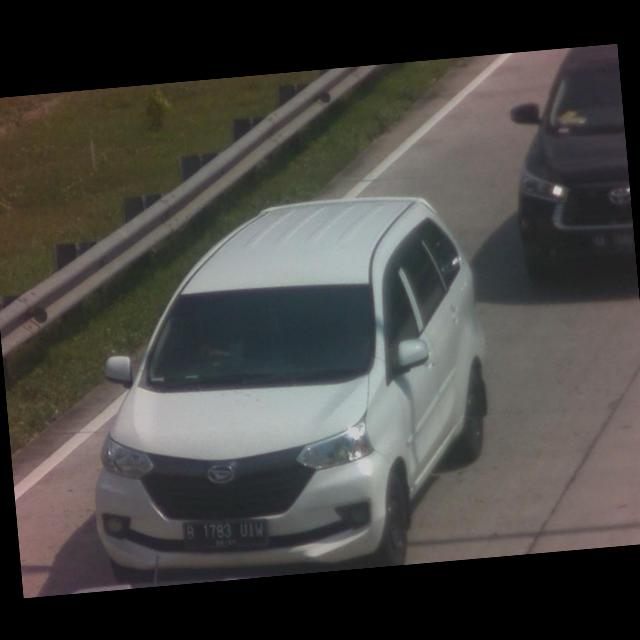plate: (180, 508, 272, 556)
